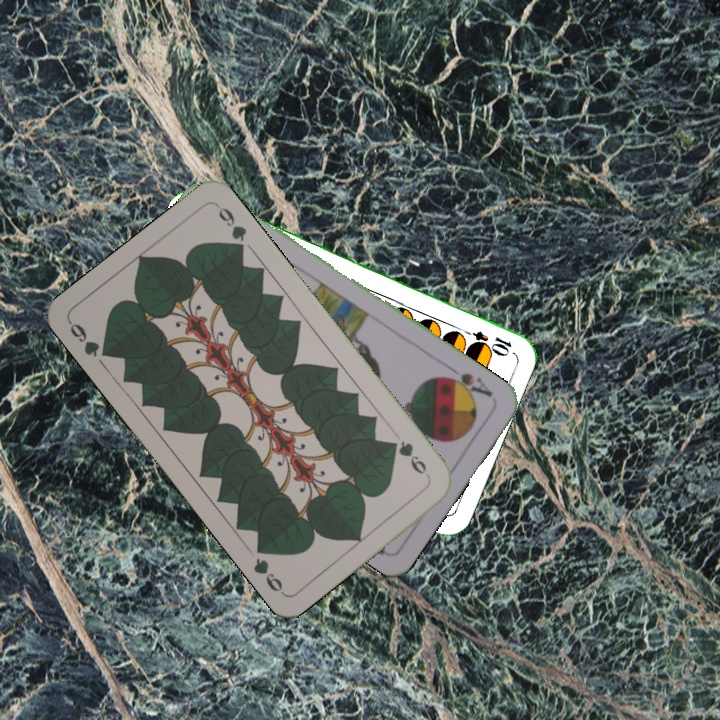E10: (456, 324, 514, 357)
G9: (386, 436, 433, 481), (65, 318, 115, 360)
SA: (439, 362, 496, 401)
